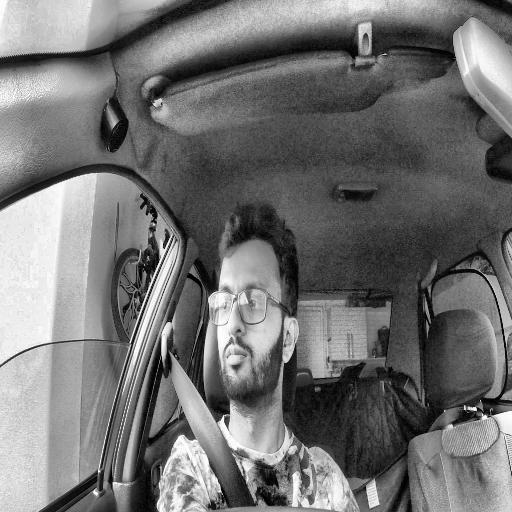awake: (207, 200, 300, 403)
